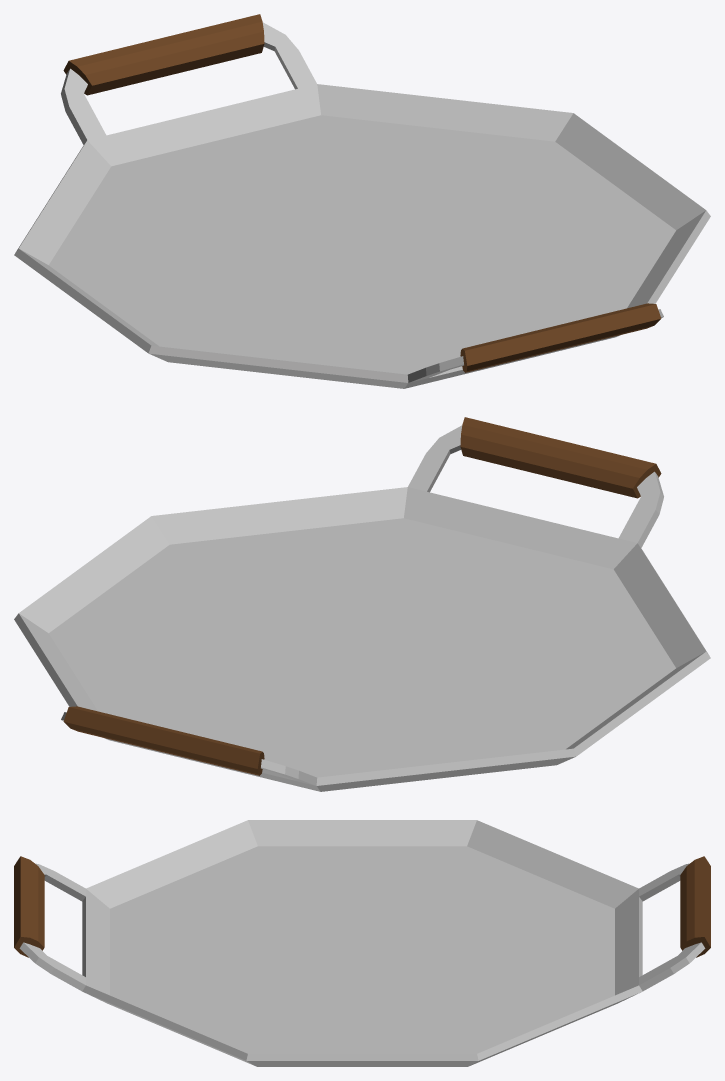
Rendered from Bandeja_Sin_Tapa.fbx.
3 renders of one model, top to bottom at view 1: azimuth 30°, elevation 25°; view 2: azimuth 150°, elevation 25°; view 3: azimuth 270°, elevation 25°, orthographic. The views are drawn at different scales.
Visible parts, largest first — view 1: Bandeja_Sin_Tapa; view 2: Bandeja_Sin_Tapa; view 3: Bandeja_Sin_Tapa.
Boxes of the visible parts, x1,y1,x2,y2 form: Bandeja_Sin_Tapa: [14, 14, 710, 388]; Bandeja_Sin_Tapa: [14, 417, 710, 791]; Bandeja_Sin_Tapa: [14, 820, 710, 1066].
Bounding box in the file's own units: 57.17 × 7.06 × 71.08.
